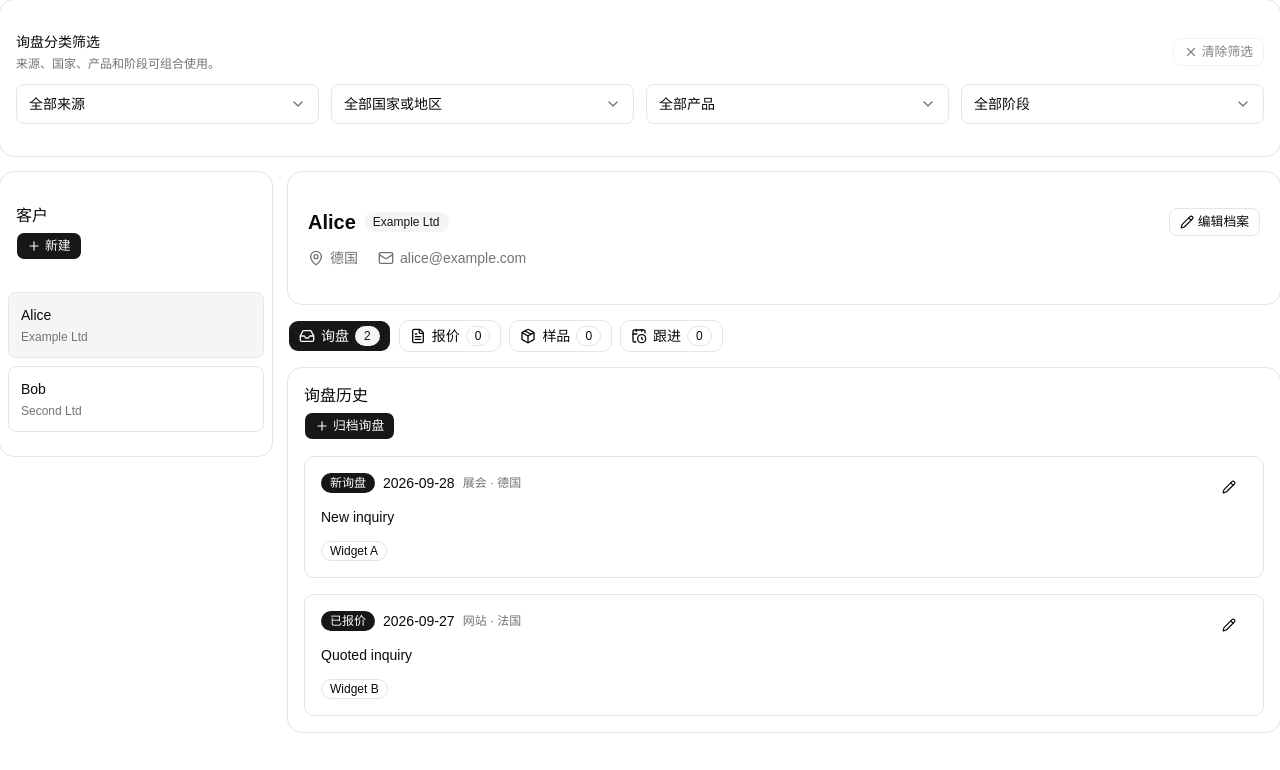
Test: CustomerWorkspace › closes an editor when filtering selects a different customer
This screenshot has width=1280, height=770.
Click the button named "编辑 2026-09-28 询盘" at (1229, 487), box [1211, 473, 1247, 501]
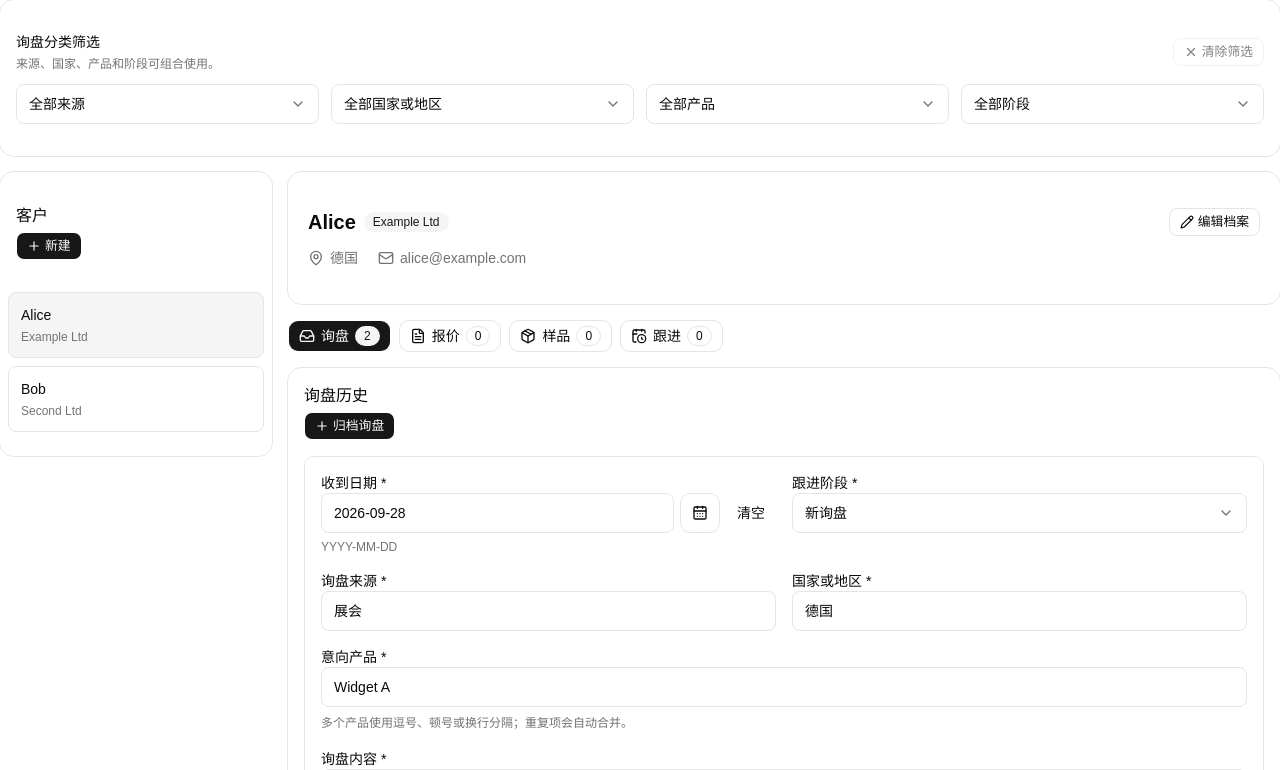
Click the dropdown named "按跟进阶段筛选" at (1002, 104), box [961, 84, 1264, 124]
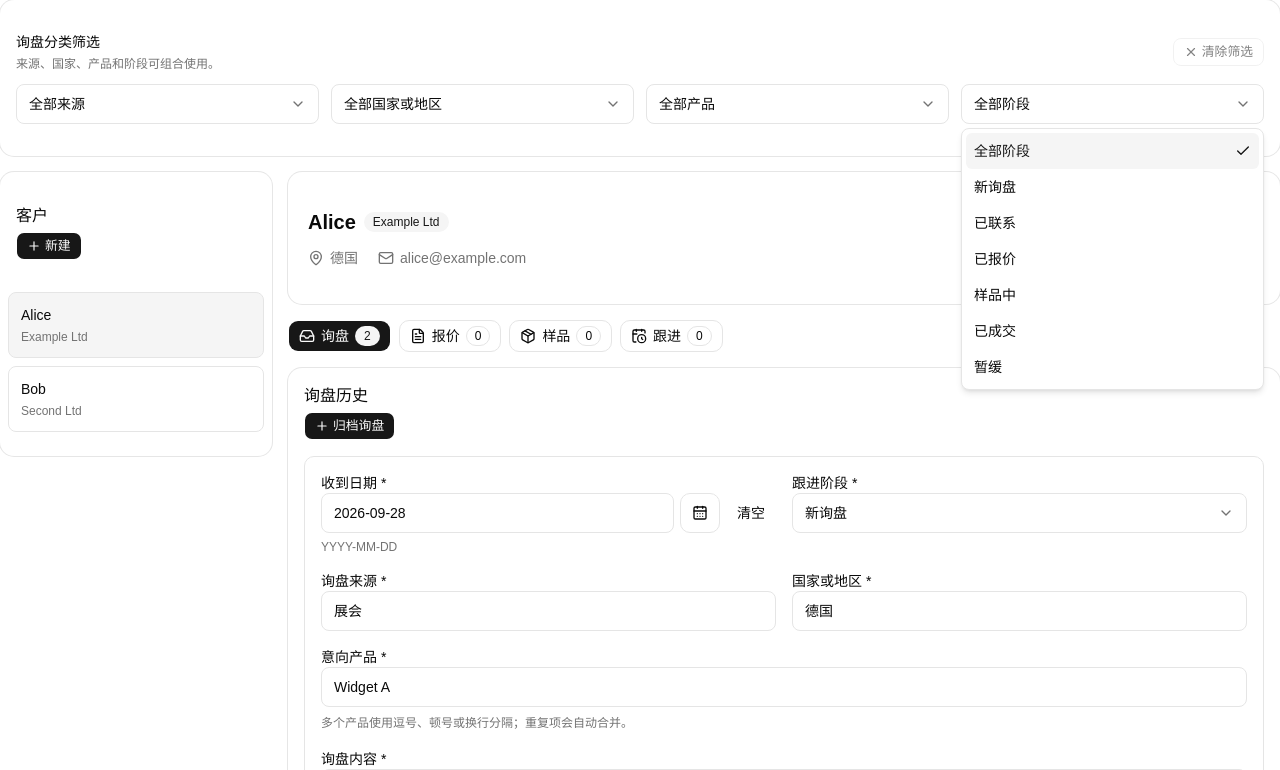
Click the option "样品中" at (995, 295), box [974, 287, 1016, 303]
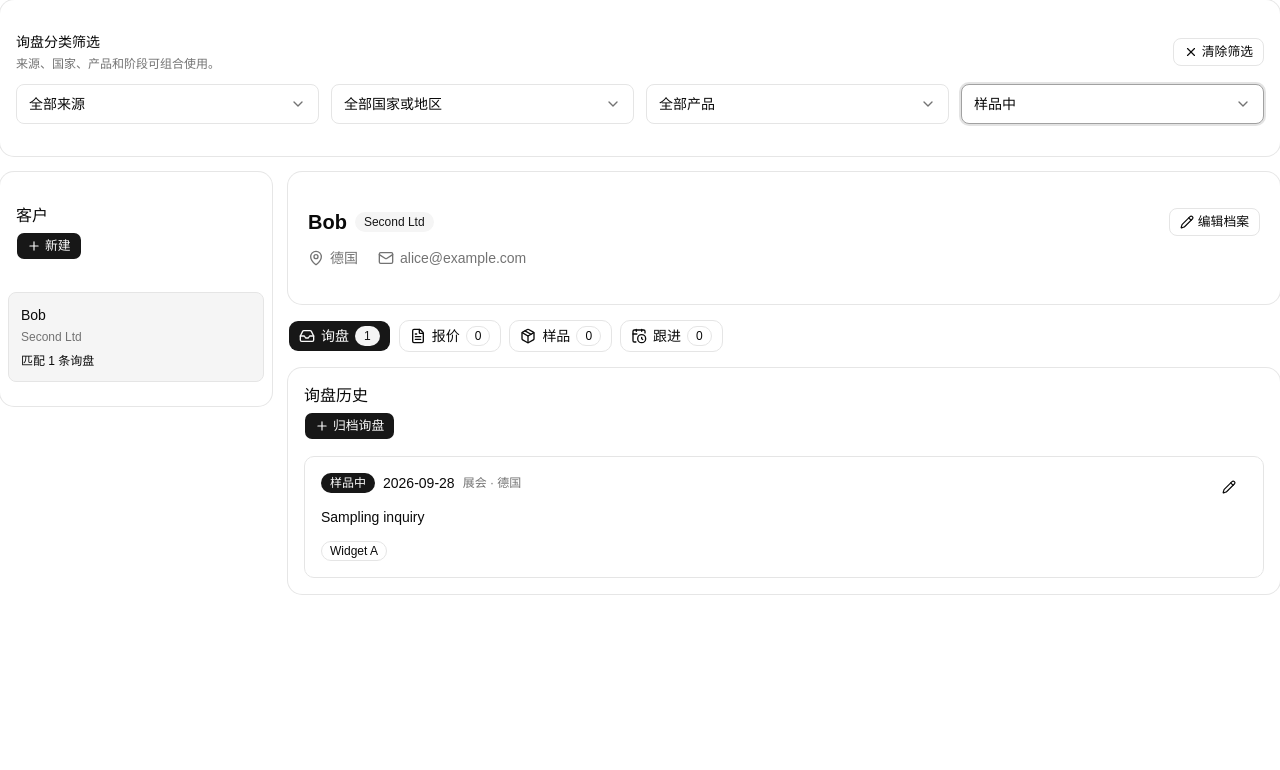
Check: the label labelled "询盘内容 *" is gone
Check: the text "Sampling inquiry" is shown, box [321, 509, 424, 525]
